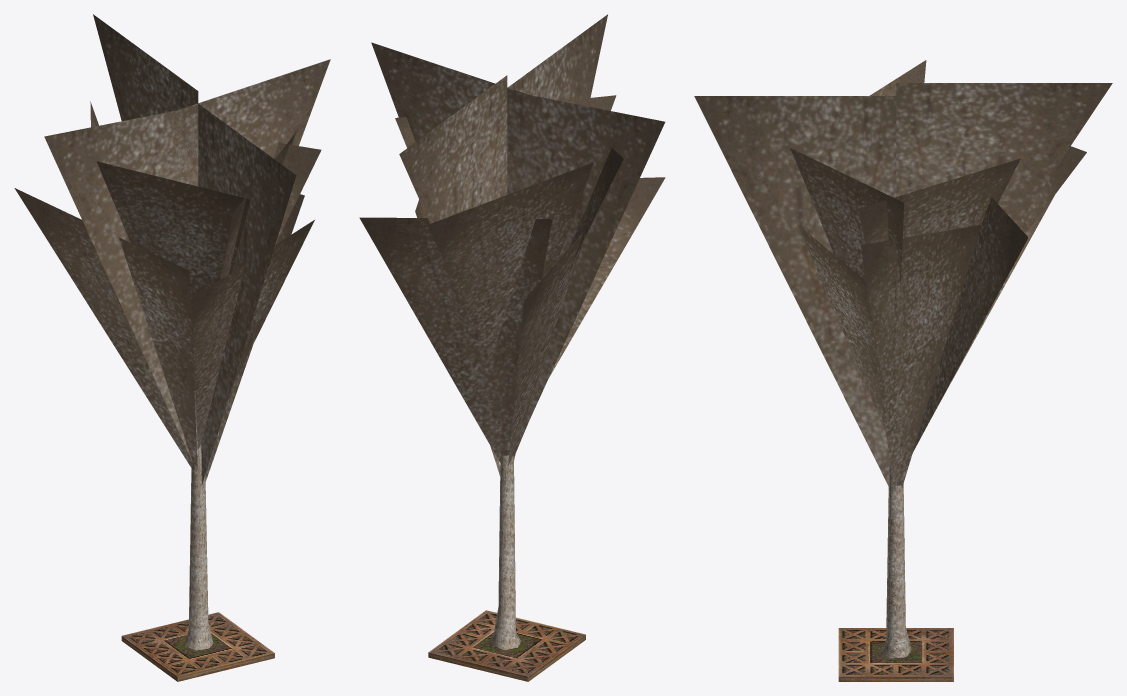
Rendered from tree3d_base.fbx.
3 renders of one model, left to right at view 1: azimuth 30°, elevation 25°; view 2: azimuth 150°, elevation 25°; view 3: azimuth 270°, elevation 25°, orthographic. The views are drawn at different scales.
Visible parts, largest first — view 1: mesh_2, mesh_0, mesh_1; view 2: mesh_2, mesh_0, mesh_1; view 3: mesh_2, mesh_0, mesh_1.
Boxes of the visible parts, <box> form: mesh_2: <box>14,14,330,485</box>; mesh_0: <box>121,612,274,681</box>; mesh_1: <box>185,391,213,650</box>; mesh_2: <box>359,14,665,477</box>; mesh_0: <box>428,610,585,681</box>; mesh_1: <box>492,455,520,650</box>; mesh_2: <box>694,60,1112,490</box>; mesh_0: <box>838,628,953,681</box>; mesh_1: <box>882,457,911,658</box>.
Size of the model in its own units: 590 by 1098 by 725.
Materials: 3 (3 with a texture image).
